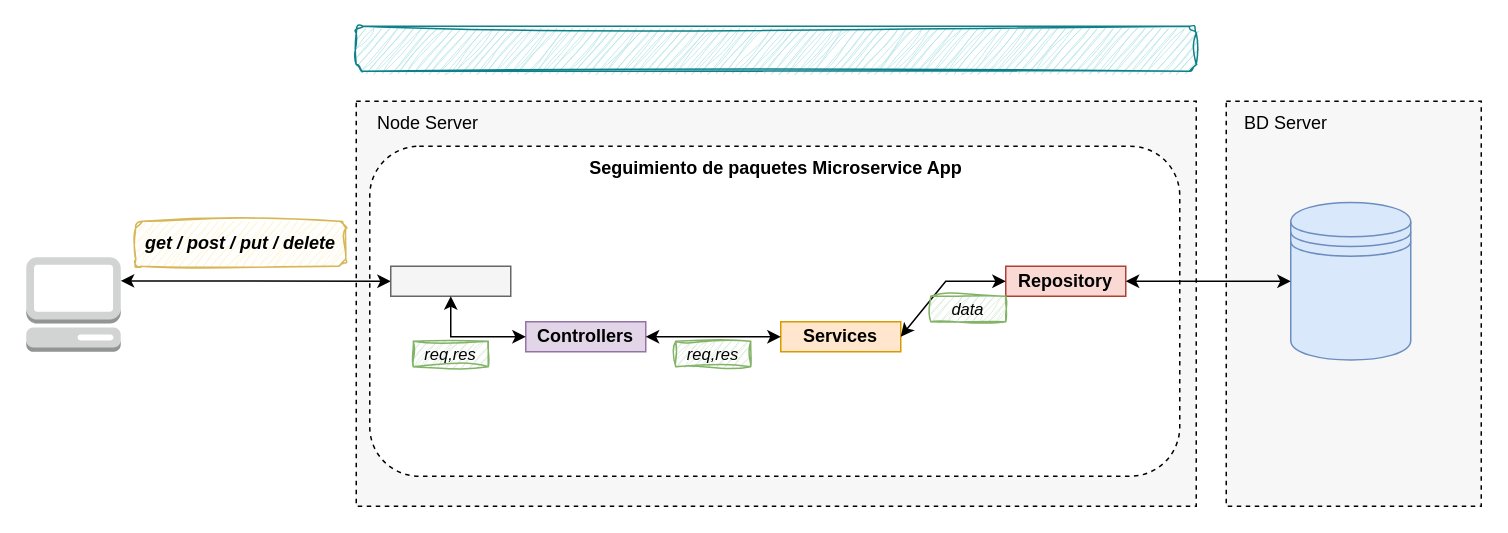
Some shapes in this 1508 by 533 pixel diagram are drawn without their labels. The shapes that lost their labels are listed below. From the top down, each one's box as (x1, y1, x2, y2) in pixels, then its label:
(355, 25, 1196, 71): Arquitectura de bajo nivel
(389, 265, 511, 296): Routes
(1289, 201, 1411, 360): PostgresSQL
